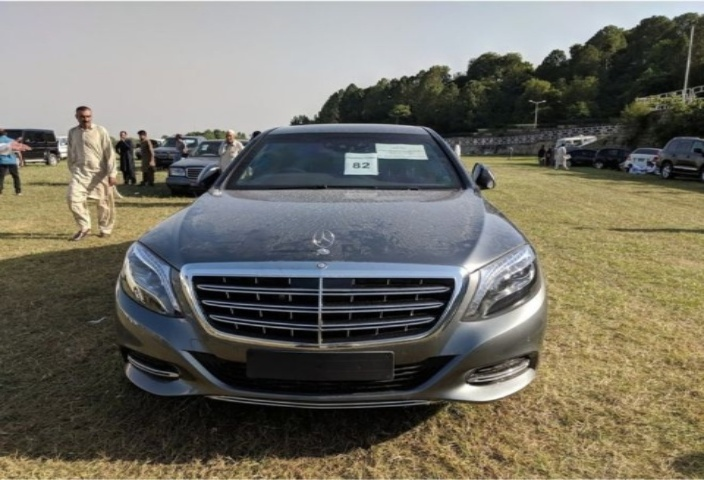car: (105, 96, 573, 424), (159, 132, 245, 195), (656, 130, 704, 182), (625, 140, 674, 188)
